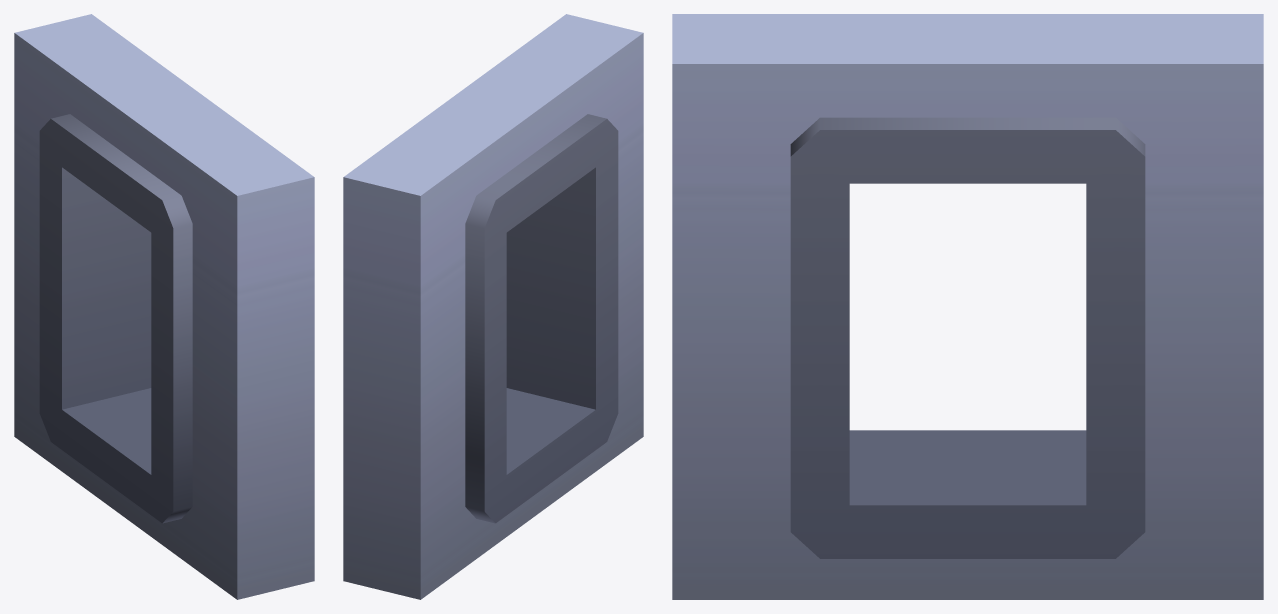
The model's file is kenney-prototype-wall-window-medium.glb.
3 views of the same model, side by side, from view 1: azimuth 30°, elevation 25°; view 2: azimuth 150°, elevation 25°; view 3: azimuth 270°, elevation 25° (orthographic). The views are drawn at different scales.
Parts seen in each view (by area): view 1: wall-window-medium; view 2: wall-window-medium; view 3: wall-window-medium.
Part boxes in pixels (bbox=[...]): wall-window-medium: bbox=[14, 14, 314, 599]; wall-window-medium: bbox=[343, 14, 643, 599]; wall-window-medium: bbox=[672, 14, 1263, 599].
Bounding box in the file's own units: 0.3 × 1 × 1.
Materials: 1 (1 with a texture image).
